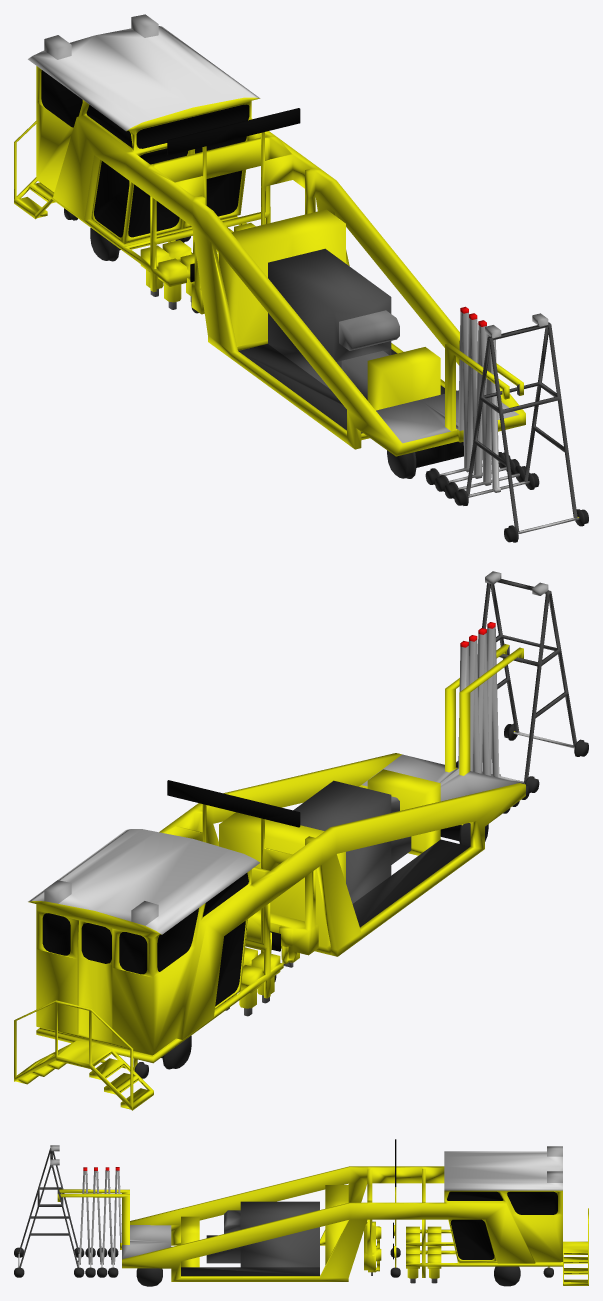
The model's file is body.obj.
The picture shows the model from 3 angles, top to bottom: view 1: azimuth 30°, elevation 25°; view 2: azimuth 150°, elevation 25°; view 3: azimuth 270°, elevation 25°; orthographic projection. The views are drawn at different scales.
Visible parts, largest first — view 1: Tamper; view 2: Tamper; view 3: Tamper.
Boxes of the visible parts, x1=… form: Tamper: x1=14, y1=14, x2=588, y2=542; Tamper: x1=14, y1=571, x2=588, y2=1110; Tamper: x1=14, y1=1139, x2=588, y2=1286.
Size of the model in its own units: 0.0763 by 0.1098 by 0.4688.
